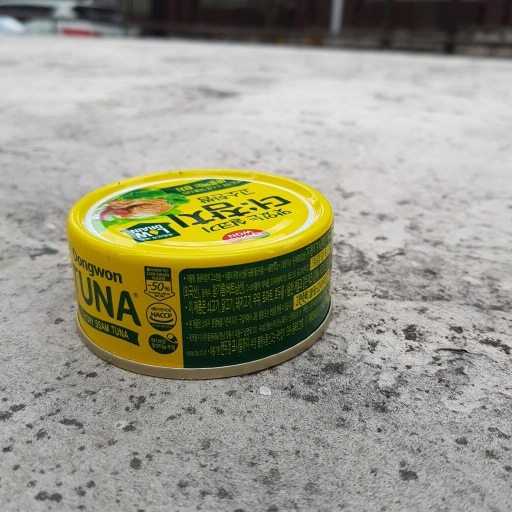Metal_1: (62, 164, 337, 384)
